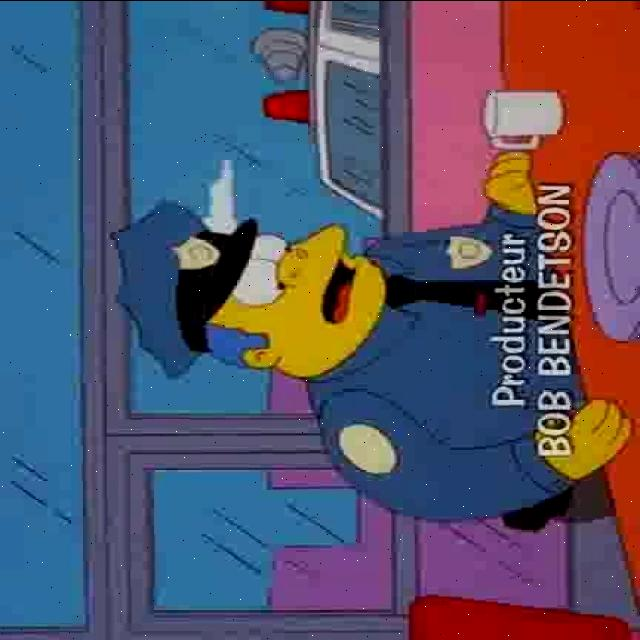Chief Wiggam: (107, 197, 390, 381)
